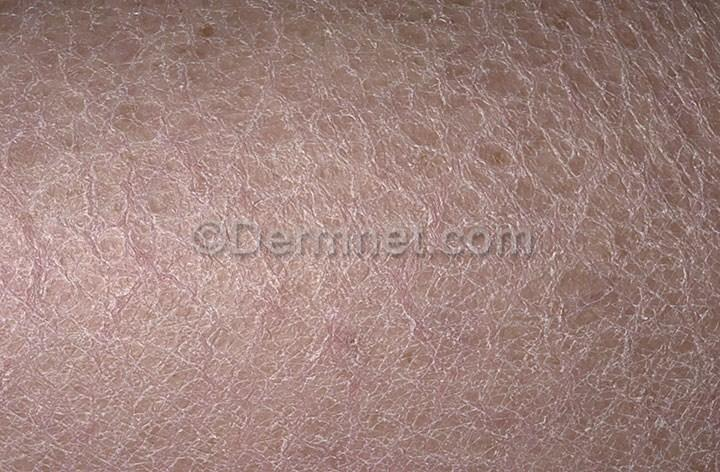liquenificacion 1: (0, 2, 720, 472)
xerosis 3: (0, 2, 720, 472)
